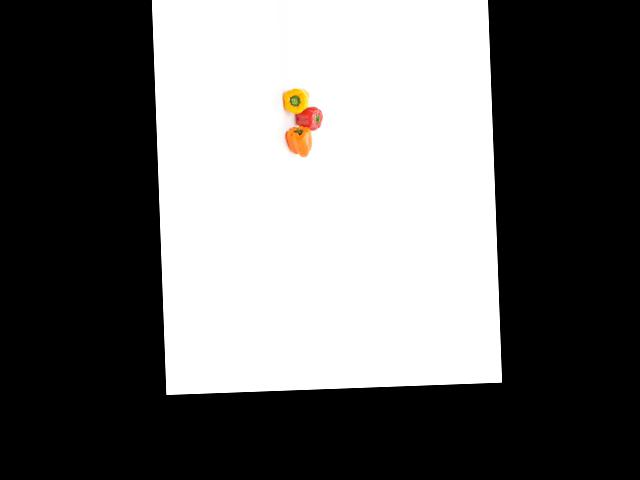bell_pepper: (282, 86, 311, 117)
